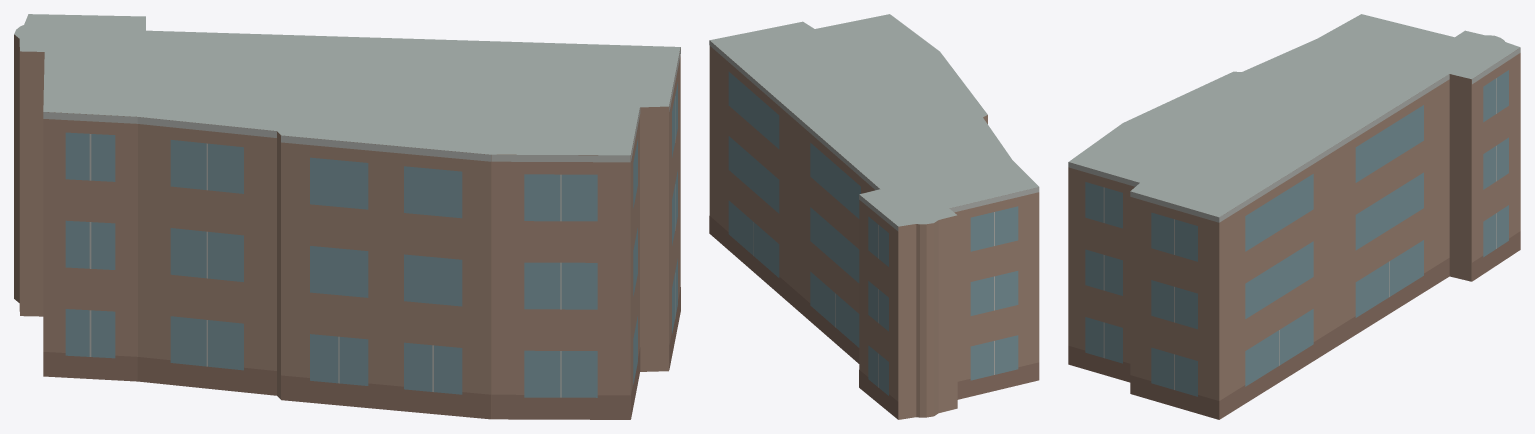
The model's file is survey-upis-32666956.glb.
The picture shows the model from 3 angles, left to right: view 1: azimuth 30°, elevation 25°; view 2: azimuth 150°, elevation 25°; view 3: azimuth 270°, elevation 25°; orthographic projection. The views are drawn at different scales.
Parts seen in each view (by area): view 1: survey-upis-32666956.tmp; view 2: survey-upis-32666956.tmp; view 3: survey-upis-32666956.tmp.
Boxes of the visible parts, bbox=[...] form: survey-upis-32666956.tmp: bbox=[14, 14, 680, 419]; survey-upis-32666956.tmp: bbox=[709, 14, 1039, 419]; survey-upis-32666956.tmp: bbox=[1068, 14, 1520, 419].
Size of the model in its own units: 19.71 by 9.15 by 18.52.
